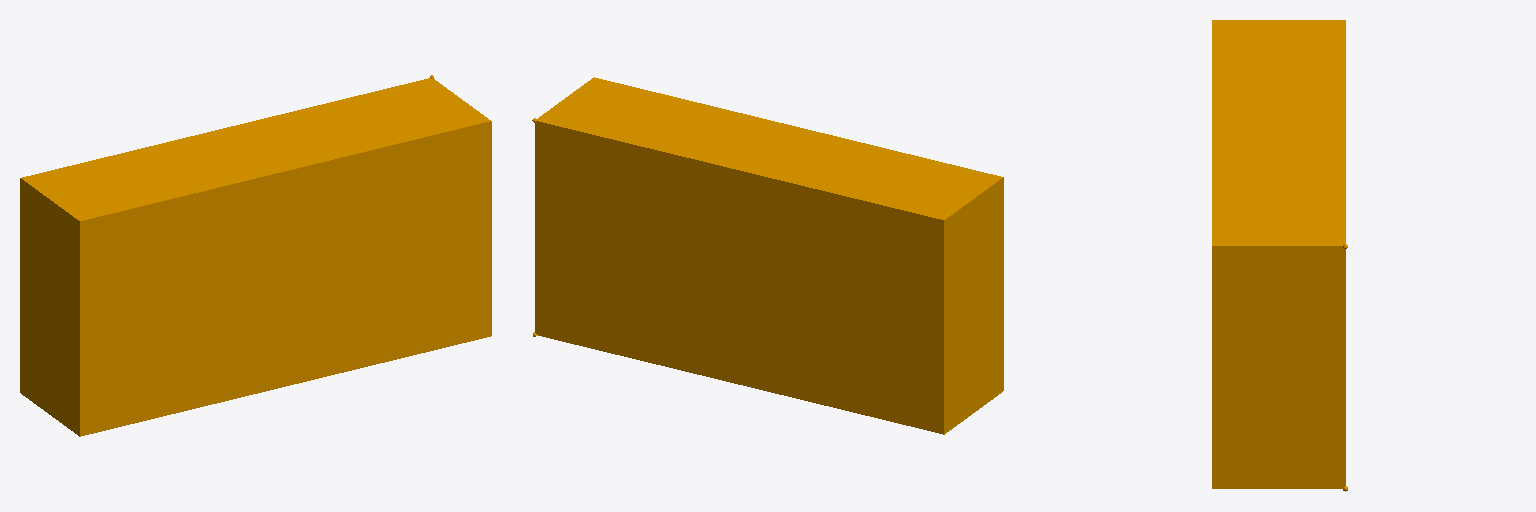
The robot description file, URDF, robot "FallingBrick":
<?xml version="1.0"?>
<robot xmlns="http://drake.mit.edu"
 xmlns:xsi="http://www.w3.org/2001/XMLSchema-instance"
 xsi:schemaLocation="http://drake.mit.edu ../../../doc/drakeURDF.xsd" name="FallingBrick">
  <link name="brick">
    <inertial>
      <mass value="1"/>
      <inertia ixx="1" ixy="0" ixz="0" iyy="2" iyz="0" izz="2"/>
    </inertial>
    <visual>
      <geometry>
        <box size="2 .5 1" />
      </geometry>
    </visual>
    <collision>
      <origin xyz="1 .25 .5"/>
      <geometry>
        <sphere radius="0" />
      </geometry>
    </collision>
    <visual>
      <origin xyz="1 .25 .5"/>
      <geometry>
        <sphere radius="0.01" />
      </geometry>
    </visual>
    <collision>
      <origin xyz="1 .25 -.5"/>
      <geometry>
        <sphere radius="0" />
      </geometry>
    </collision>
    <visual>
      <origin xyz="1 .25 -.5"/>
      <geometry>
        <sphere radius="0.01" />
      </geometry>
    </visual>
    <!-- <collision>
      <origin xyz="-1 .25 .5"/>
      <geometry>
        <sphere radius="0" />
      </geometry>
    </collision>
    <visual>
      <origin xyz="-1 .25 .5"/>
      <geometry>
        <sphere radius="0.01" />
      </geometry>
    </visual>
    <collision>
      <origin xyz="-1 .25 -.5"/>
      <geometry>
        <sphere radius="0" />
      </geometry>
    </collision>
    <visual>
      <origin xyz="-1 .25 -.5"/>
      <geometry>
        <sphere radius="0.01" />
      </geometry>
    </visual> -->
  </link>
</robot>

--- What the picture shows (computed from the rendered views, not written in the file) ---
The picture shows the robot from 3 angles, left to right: view 1: azimuth 30°, elevation 25°; view 2: azimuth 150°, elevation 25°; view 3: azimuth 270°, elevation 25°; orthographic projection.
Robot: FallingBrick — 1 links, 0 joints (none); root link brick; default pose: all joints at 0.
Visible links, largest first — view 1: brick; view 2: brick; view 3: brick.
Boxes of the visible links, x1,y1,x2,y2 form: brick: (20,75,491,436); brick: (532,77,1003,434); brick: (1212,20,1347,491).
Size in the robot's own frame: 2.01 by 0.51 by 1.02 metres.
Geometry: primitives only (box / cylinder / sphere), no mesh files.
